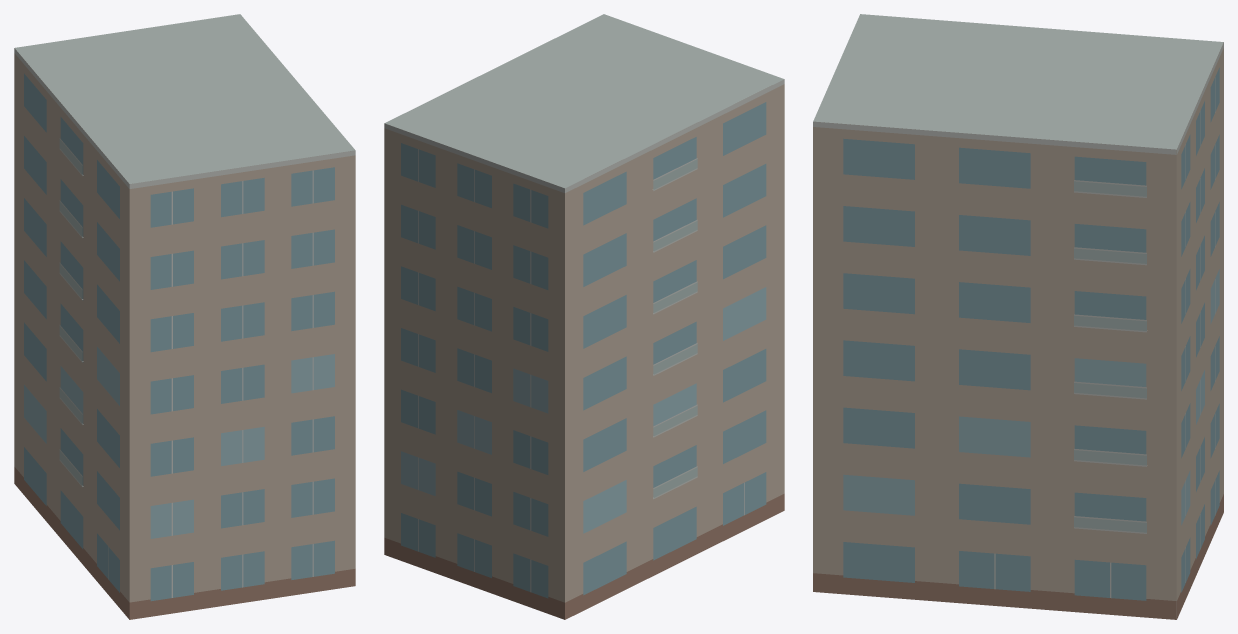
Rendered from survey-upis-32899917.glb.
3 views of the same model, side by side, from view 1: azimuth 30°, elevation 25°; view 2: azimuth 150°, elevation 25°; view 3: azimuth 270°, elevation 25° (orthographic). The views are drawn at different scales.
Parts seen in each view (by area): view 1: survey-upis-32899917.tmp; view 2: survey-upis-32899917.tmp; view 3: survey-upis-32899917.tmp.
Part boxes in pixels (x1,y1,x2,y2): survey-upis-32899917.tmp: (14,14,355,619); survey-upis-32899917.tmp: (384,14,784,619); survey-upis-32899917.tmp: (813,14,1223,619).
Bounding box in the file's own units: 13.21 × 21.35 × 16.91.
